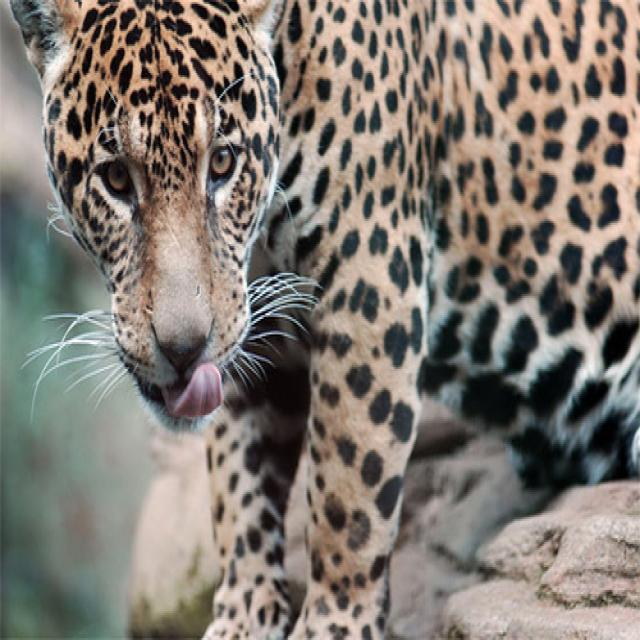Leopard: (9, 0, 635, 634)
